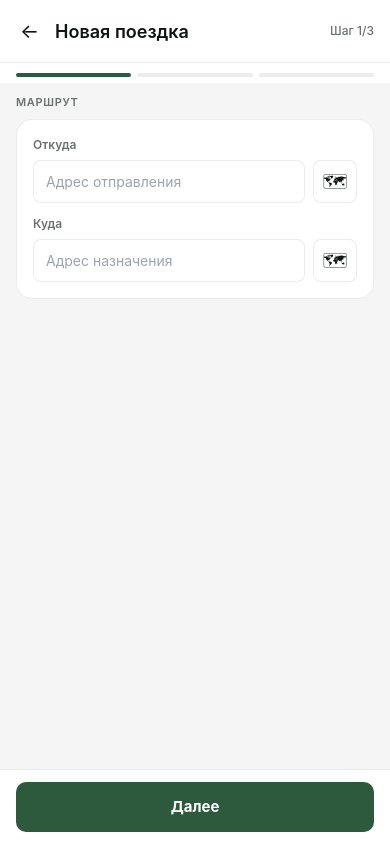
Test: CreateRideScreen › step 1: ошибка если coords не выбраны из dropdown (произвольный текст)
In the field with test id "input-from": (169, 182) x1=33 y1=160 x2=305 y2=203, type "случайный текст"
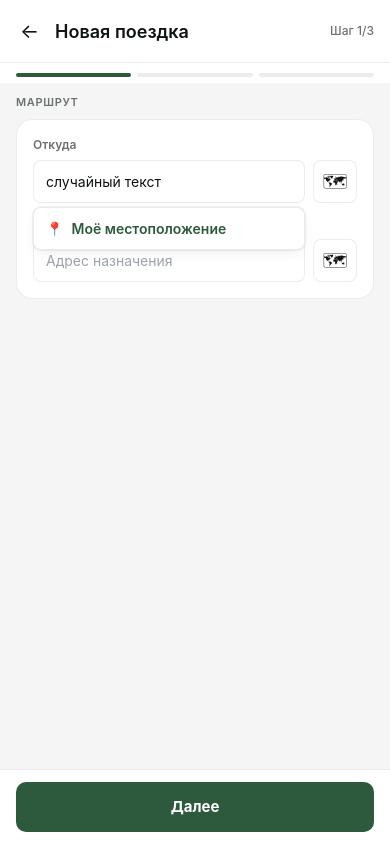
In the field with test id "input-to": (169, 261) x1=33 y1=239 x2=305 y2=282, type "другой текст"
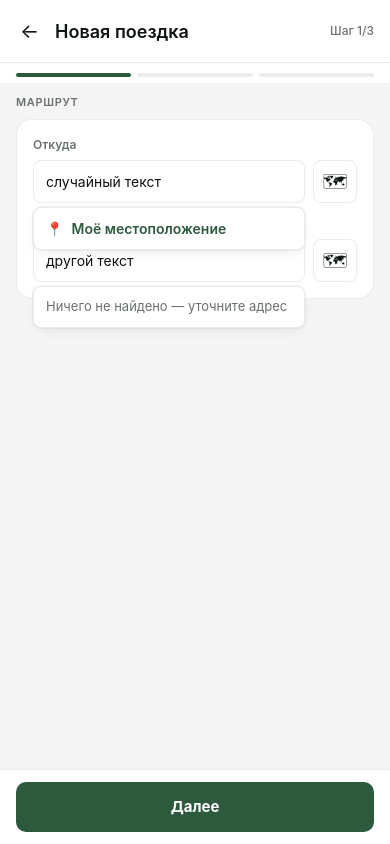
Click the button with test id "next-step-btn": (195, 807) x1=16 y1=782 x2=374 y2=832
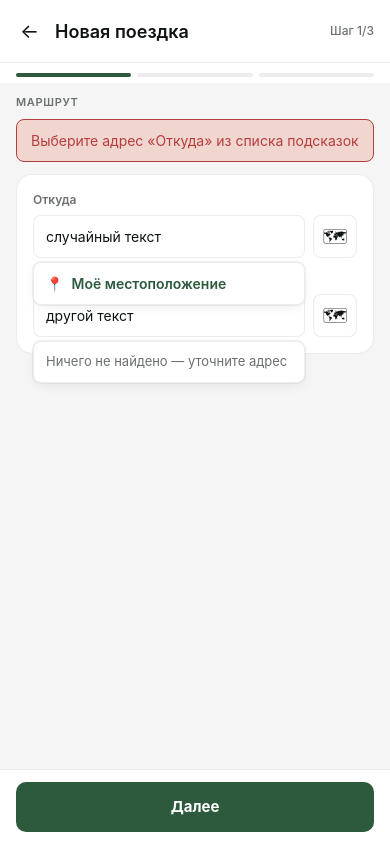
Expected: the text with test id "form-error" reads "Выберите адрес «Откуда» из списка подсказок", x1=31 y1=132 x2=359 y2=149
